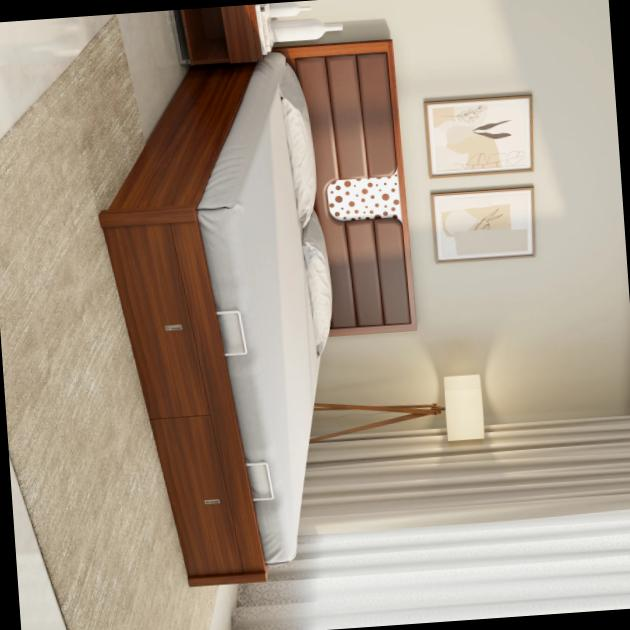bed: (100, 62, 267, 585), (277, 40, 416, 334), (328, 348, 346, 352)
